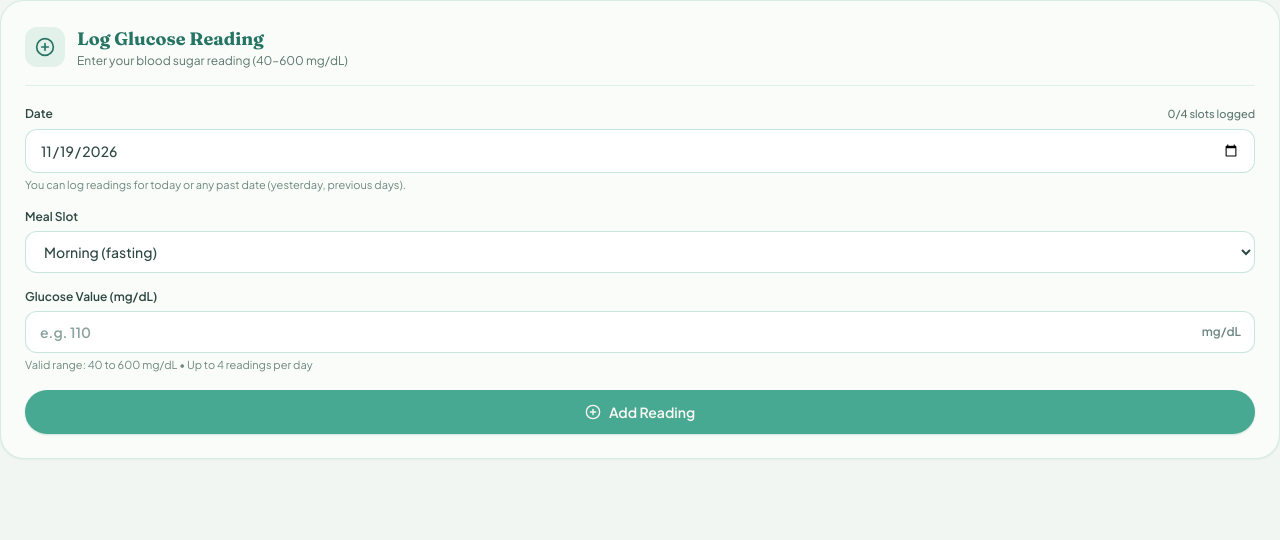
ReadingForm Component › shows validation error when glucose value is below 40
Type "35" into the number field with placeholder "e.g. 110" at (640, 332), box [25,311,1255,353]
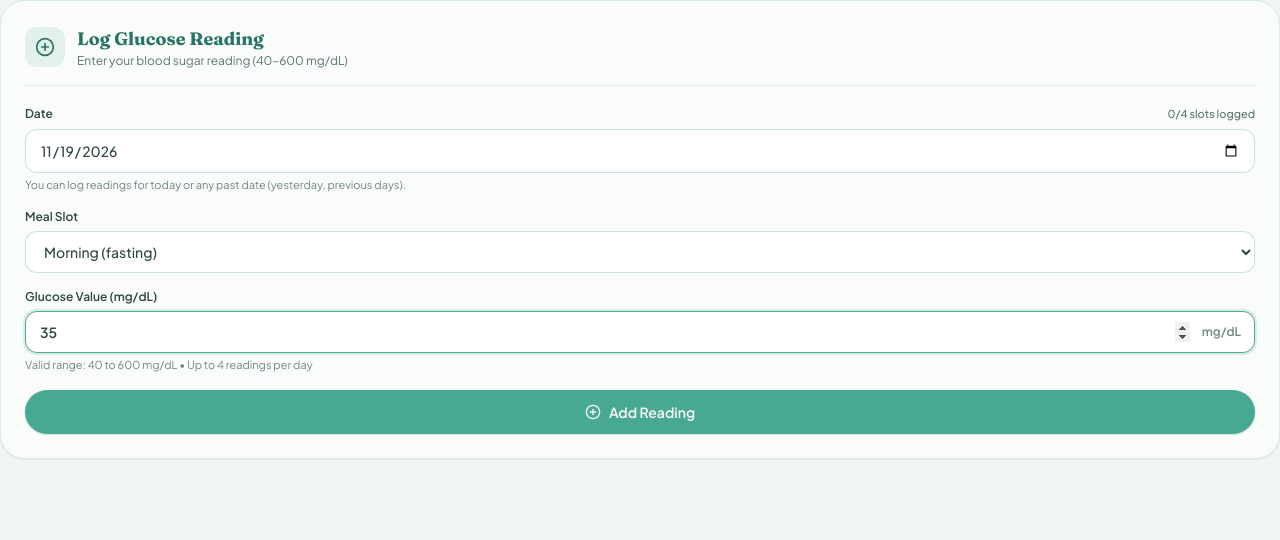
Click the button "Add Reading" at (640, 412), box [25,390,1255,434]
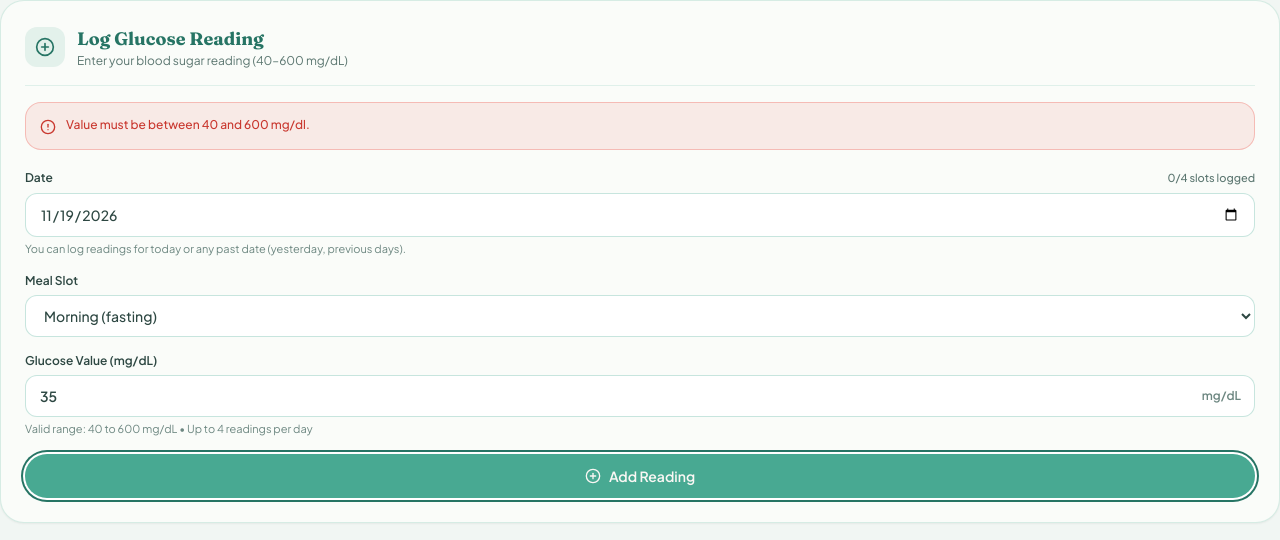
Expected: the text "Value must be between 40 and 600 mg/dl." is shown, [66,117,310,133]
